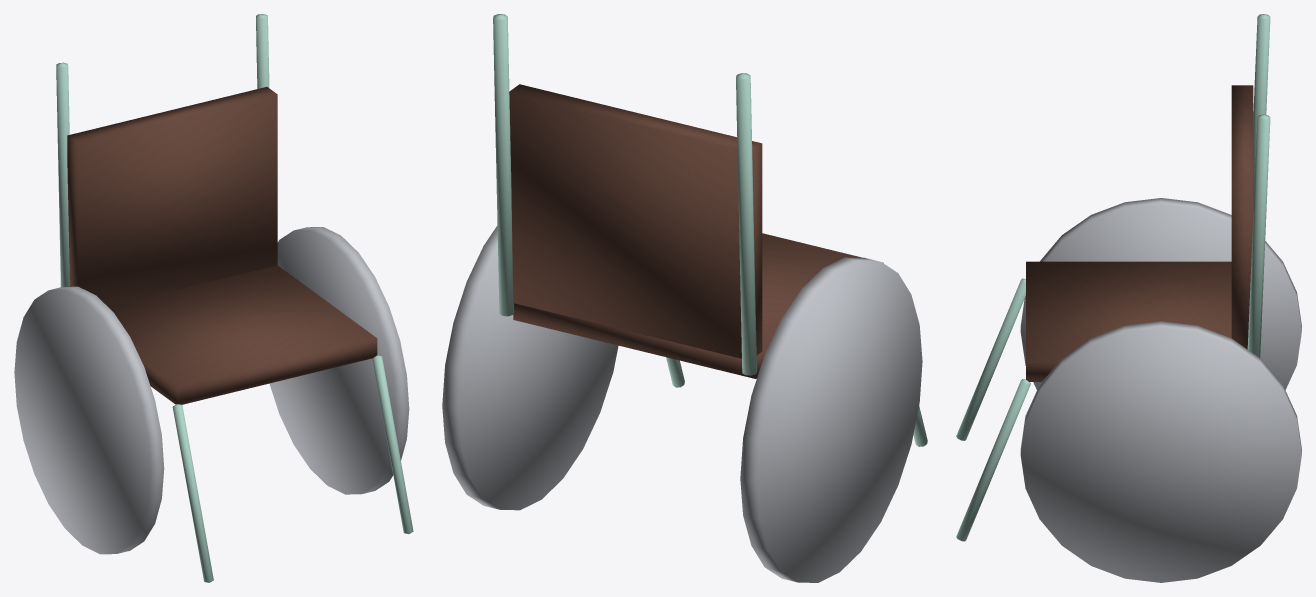
Rendered from FauteuilRoulant.glb.
The picture shows the model from 3 angles, left to right: view 1: azimuth 30°, elevation 25°; view 2: azimuth 150°, elevation 25°; view 3: azimuth 270°, elevation 25°; orthographic projection. The views are drawn at different scales.
Visible parts, largest first — view 1: Siege, Roues, Cadre; view 2: Roues, Siege, Cadre; view 3: Roues, Siege, Cadre.
Boxes of the visible parts, bbox=[...] form: Siege: bbox=[67, 87, 377, 404]; Roues: bbox=[14, 227, 409, 554]; Cadre: bbox=[56, 14, 413, 582]; Roues: bbox=[442, 225, 922, 582]; Siege: bbox=[509, 84, 883, 378]; Cadre: bbox=[493, 14, 927, 446]; Roues: bbox=[1020, 198, 1301, 582]; Siege: bbox=[1026, 85, 1253, 381]; Cadre: bbox=[956, 14, 1270, 541].
Bounding box in the file's own units: 0.578 × 0.924 × 0.6394.
3 materials, 1 textured.
